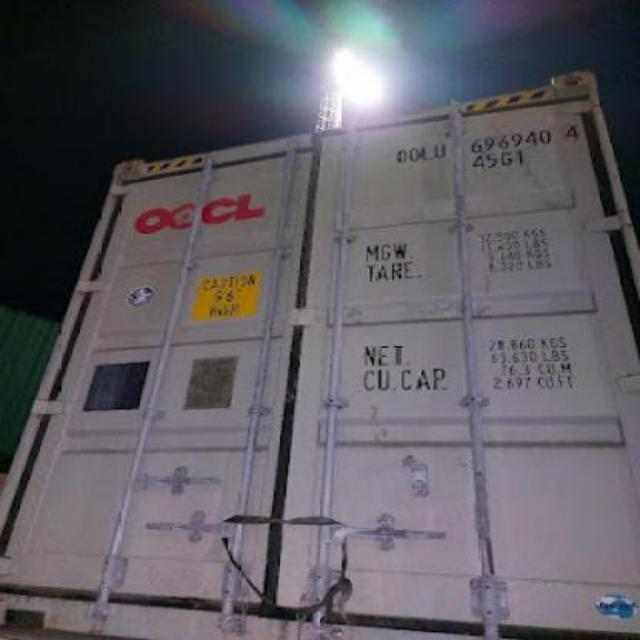0: (538, 129, 552, 145)
4: (524, 129, 538, 147), (564, 125, 580, 138)
6: (496, 134, 508, 150), (470, 138, 482, 152)
9: (508, 134, 526, 148), (482, 137, 496, 153)
L: (418, 144, 434, 162)
O: (396, 148, 406, 162), (408, 148, 418, 162)
U: (432, 146, 448, 158)
